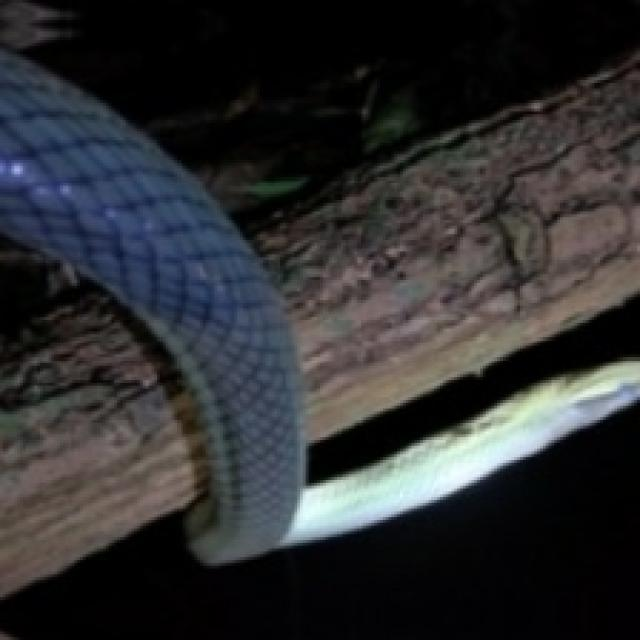red-tailed green ratsnake: (0, 50, 640, 564)
